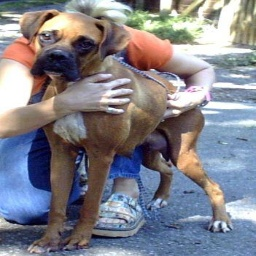dog: (18, 7, 236, 256)
